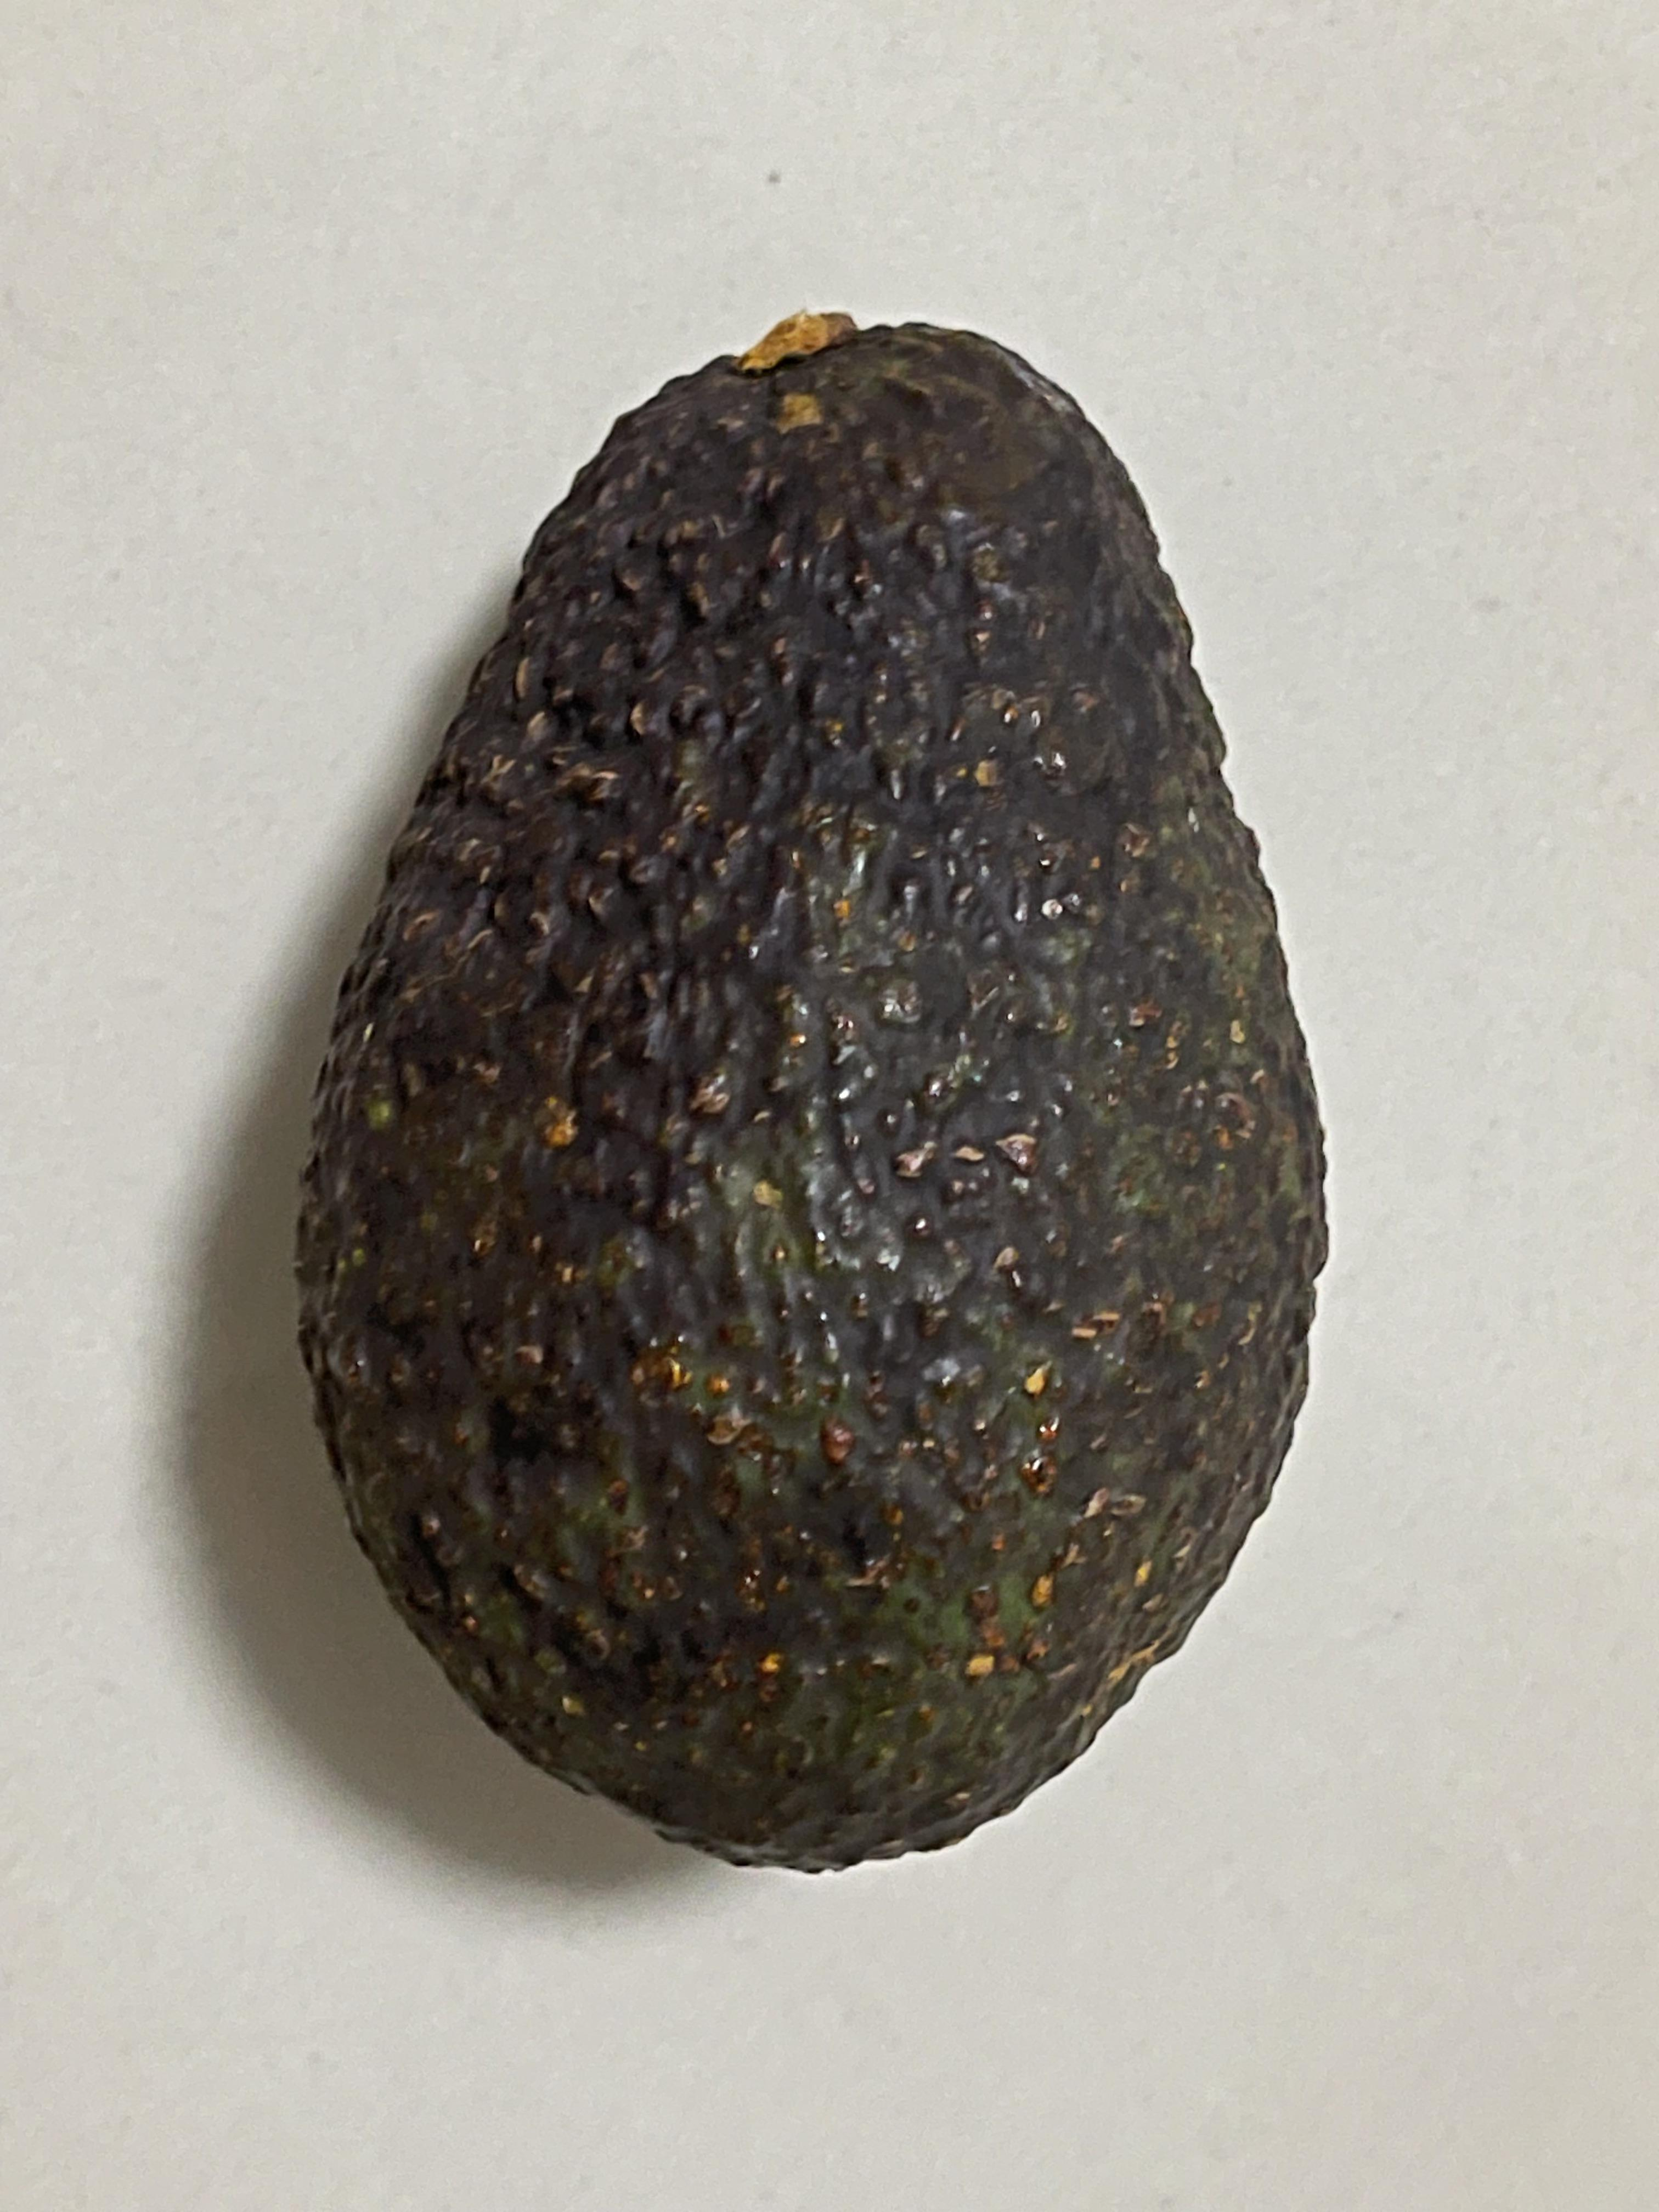Level2: (274, 273, 1349, 1893)
